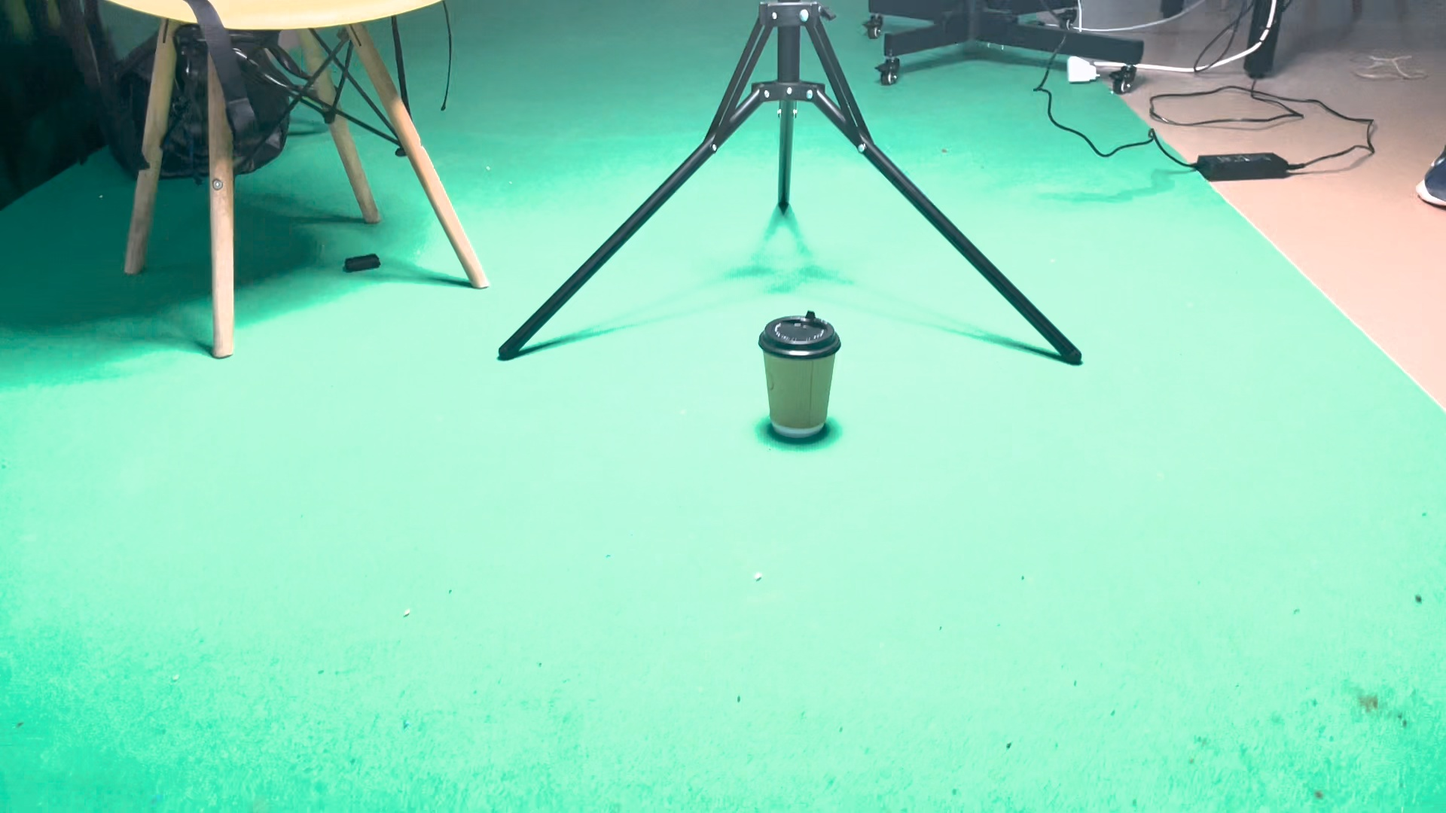cup: (699, 470, 810, 618)
